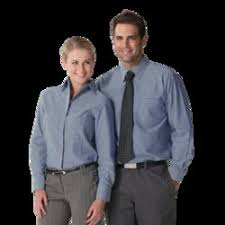F_shirt: (98, 58, 201, 186), (25, 78, 117, 200)
F_tie: (117, 69, 138, 172)
